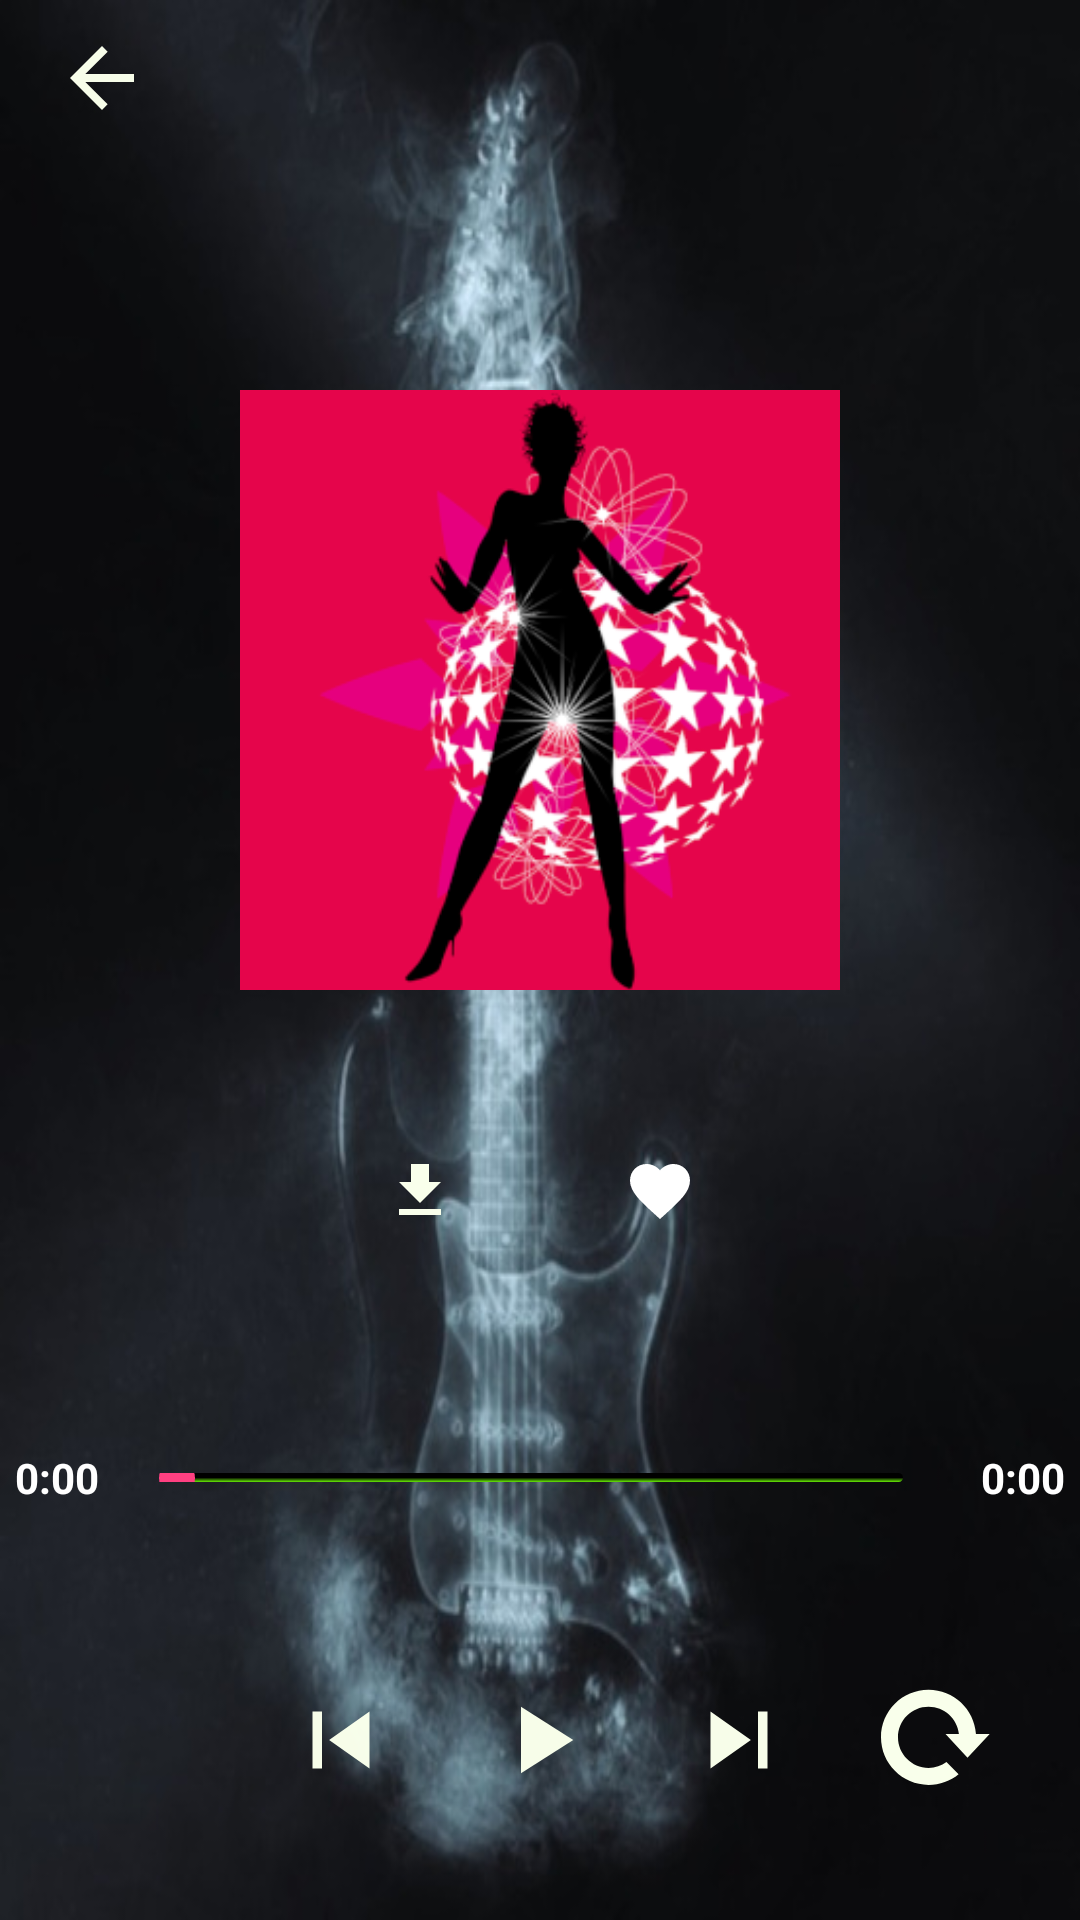

Where to tap for icons on this 1080 × 1920 app screen, as (x=x, y=y):
back: (x=102, y=78)
download: (x=420, y=1191)
favorite none: (x=657, y=1191)
loop none: (x=935, y=1737)
next: (x=728, y=1731)
play: (x=540, y=1740)
previous: (x=341, y=1740)
